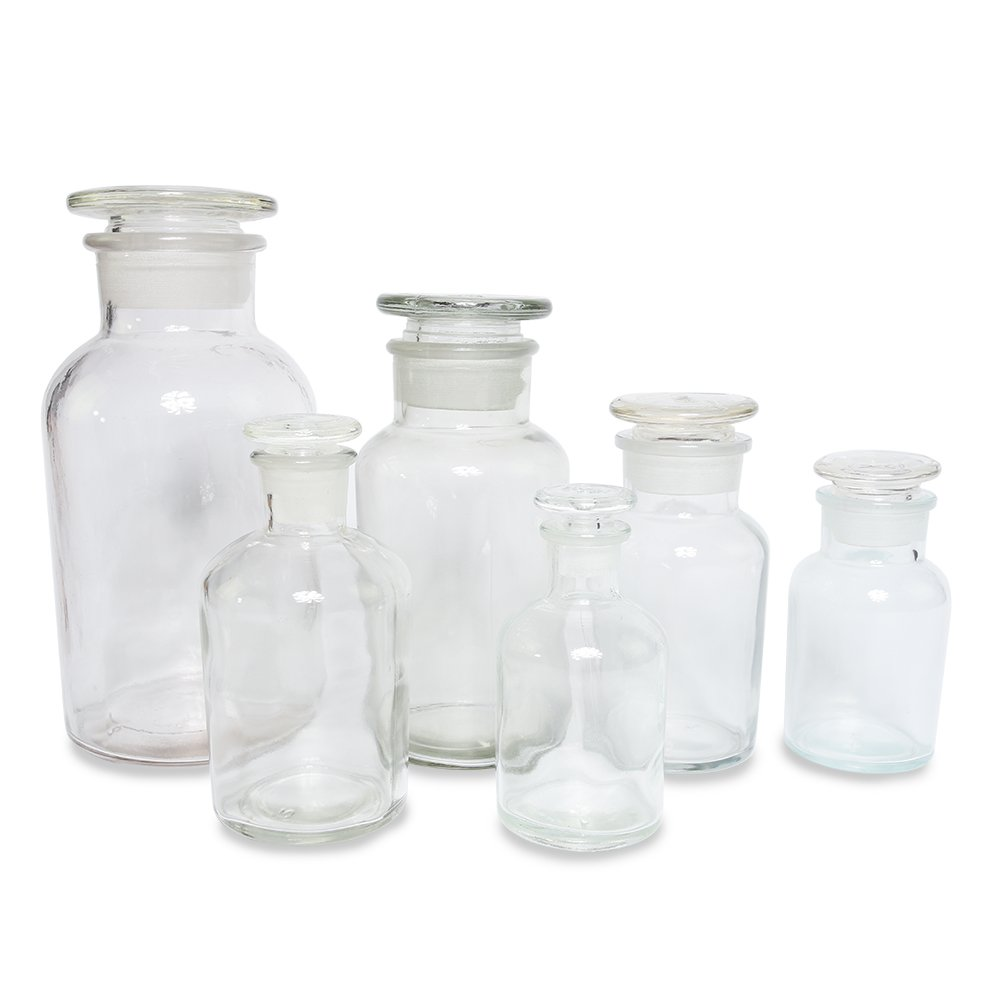glass_bottle: (28, 167, 976, 868)
